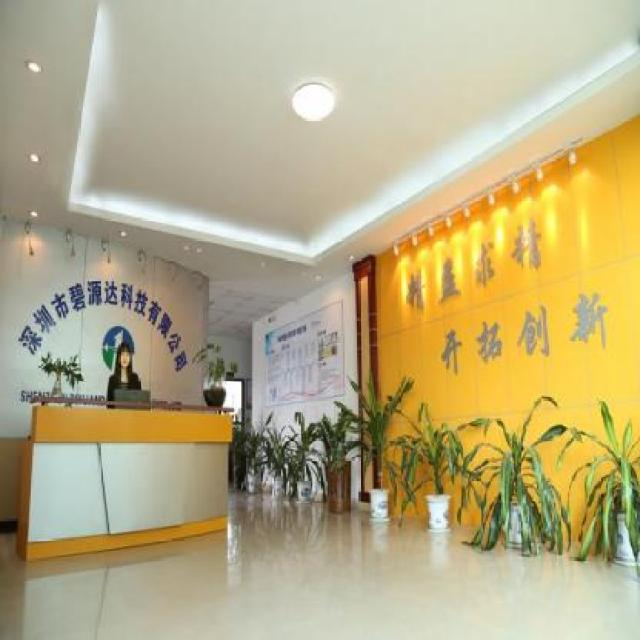frontdesk: (6, 391, 239, 570)
